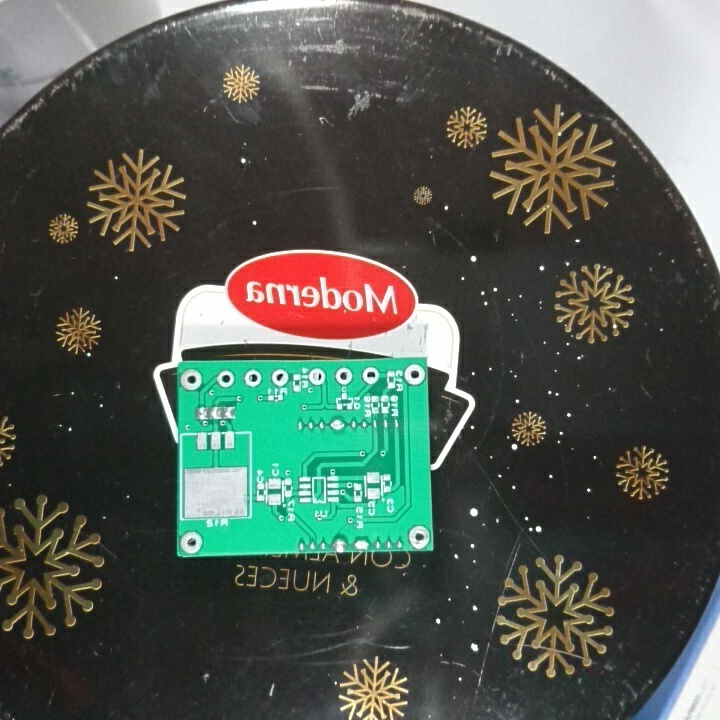F: (179, 366, 203, 395), (178, 529, 204, 555), (408, 524, 431, 550), (402, 363, 425, 386), (243, 367, 263, 390), (307, 366, 328, 387), (268, 366, 288, 388), (217, 368, 236, 390), (334, 366, 353, 386), (361, 366, 379, 386)
P: (327, 415, 347, 434), (330, 538, 352, 552), (351, 537, 371, 552)
